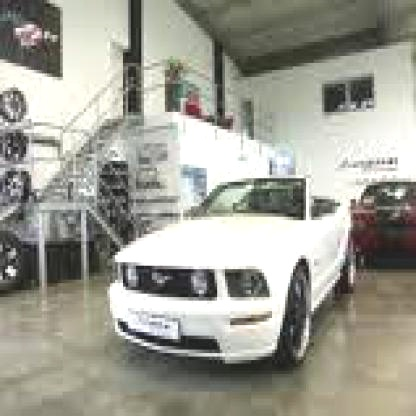Vehicle: (113, 175, 359, 374)
